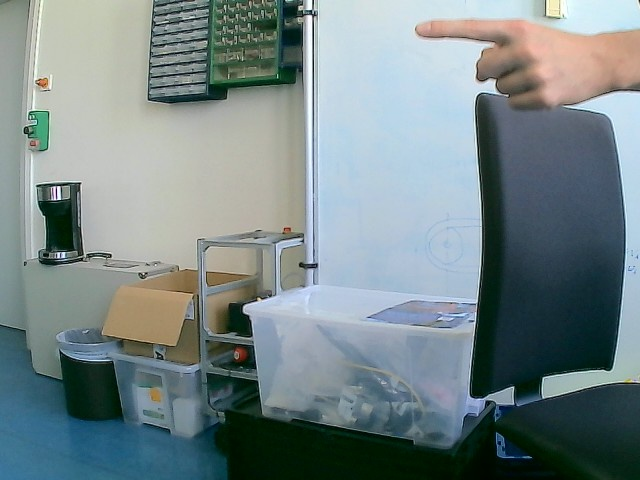right: (413, 17, 605, 112)
